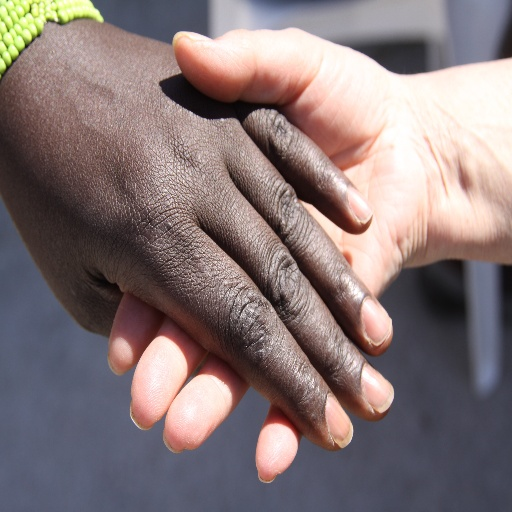hand: (0, 20, 396, 454)
